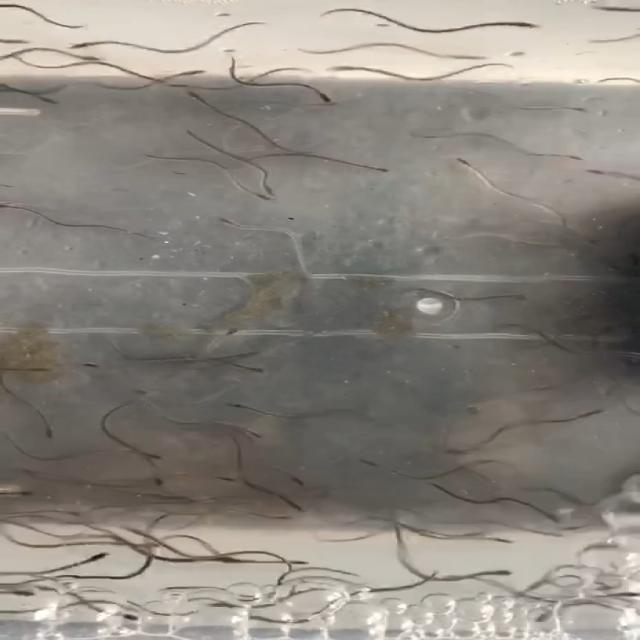active_glass_eel: (218, 215, 258, 236), (102, 606, 142, 625), (272, 470, 312, 488), (40, 416, 67, 442), (212, 323, 244, 344), (259, 176, 286, 200), (206, 469, 241, 487), (248, 188, 281, 207), (365, 159, 400, 176), (242, 427, 274, 445), (243, 362, 284, 376), (477, 533, 518, 547), (20, 90, 60, 104), (75, 358, 112, 373), (472, 566, 518, 578), (79, 547, 111, 564), (280, 501, 315, 516), (554, 102, 591, 116), (304, 90, 336, 106), (0, 489, 42, 501), (6, 584, 42, 598), (495, 20, 543, 30), (186, 90, 216, 106), (579, 166, 619, 178), (551, 150, 585, 164), (495, 46, 528, 60), (128, 384, 152, 403), (130, 451, 171, 462), (176, 64, 205, 79), (353, 456, 380, 472), (228, 402, 266, 413), (74, 50, 98, 67), (454, 157, 481, 172), (281, 557, 317, 568), (315, 64, 360, 72), (146, 473, 169, 487), (69, 41, 98, 51), (0, 36, 30, 45), (0, 202, 22, 214)
